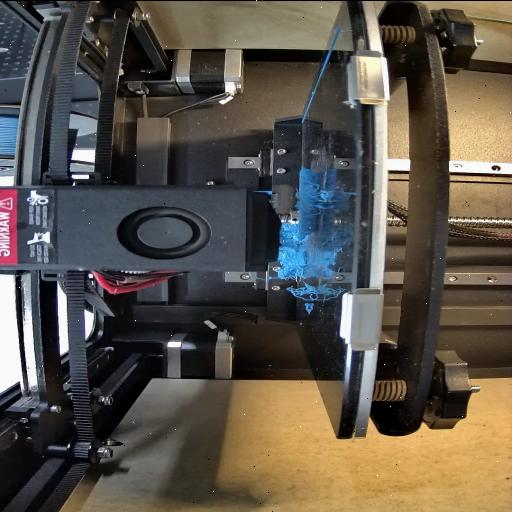spaghetti: (278, 222, 310, 280), (289, 182, 330, 216), (290, 279, 322, 300)
